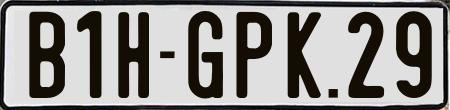1: (77, 11, 106, 101)
2: (346, 9, 383, 101)
9: (394, 11, 432, 101)
B: (26, 10, 67, 102)
G: (188, 8, 225, 99)
H: (115, 9, 146, 95)
K: (288, 11, 324, 102)
P: (235, 11, 275, 102)
